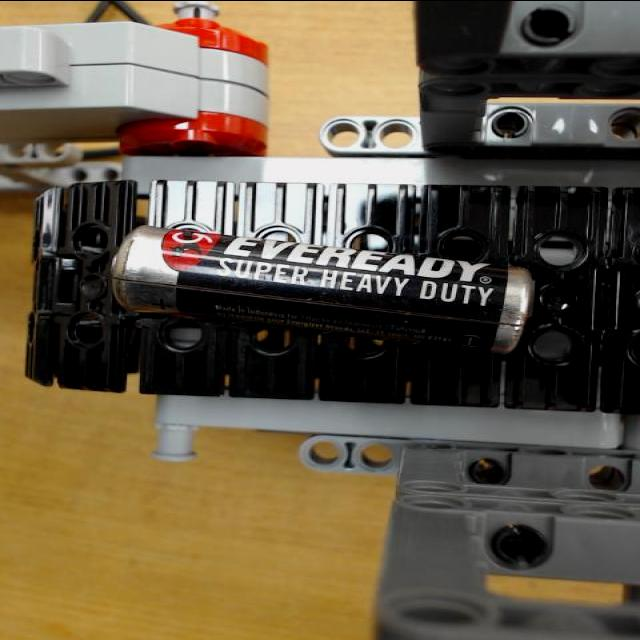AA: (110, 224, 530, 360)
